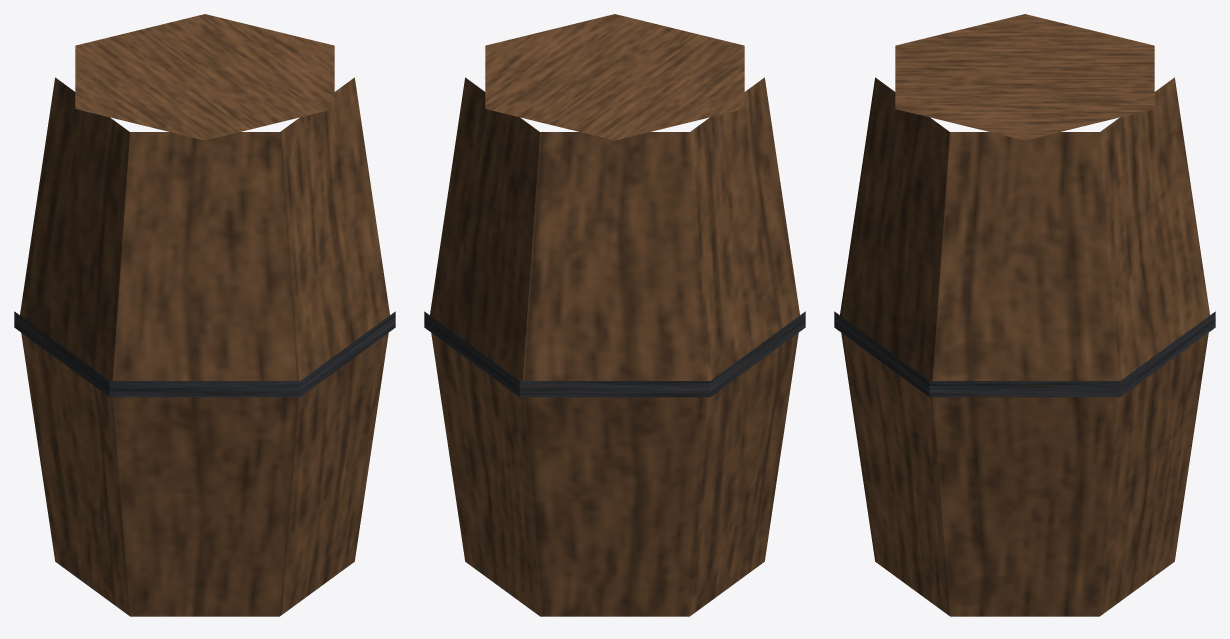
Rendered from prop_haven_barrel_a_lod2.glb.
3 renders of one model, left to right at view 1: azimuth 30°, elevation 25°; view 2: azimuth 150°, elevation 25°; view 3: azimuth 270°, elevation 25°, orthographic.
Visible parts, largest first — view 1: prop_haven_barrel_a_lod2; view 2: prop_haven_barrel_a_lod2; view 3: prop_haven_barrel_a_lod2.
Boxes of the visible parts, x1,y1,x2,y2 form: prop_haven_barrel_a_lod2: [14, 14, 395, 616]; prop_haven_barrel_a_lod2: [424, 14, 805, 616]; prop_haven_barrel_a_lod2: [834, 14, 1215, 616].
Bounding box in the file's own units: 0.5508 × 0.892 × 0.636.
Materials: 1 (1 with a texture image).
